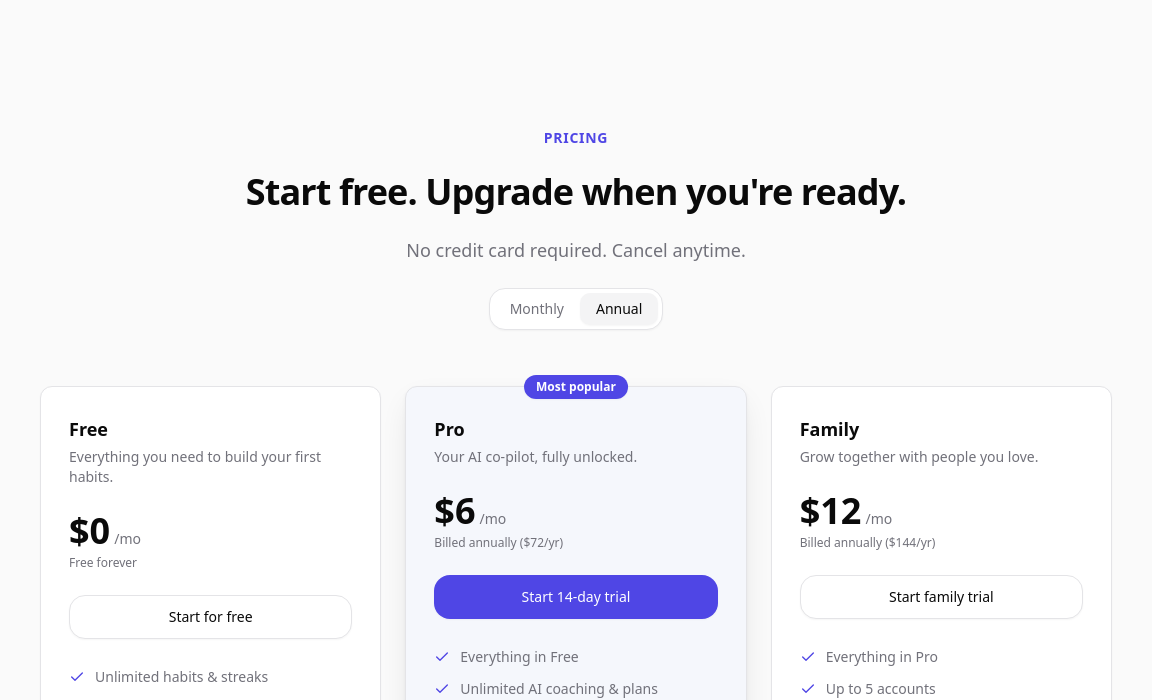
Scenario: PricingSection › shows the demo notice for a demo session
Click the button "Start 14-day trial" at (576, 597), box 434,575 -> 718,619
(page scrolled)
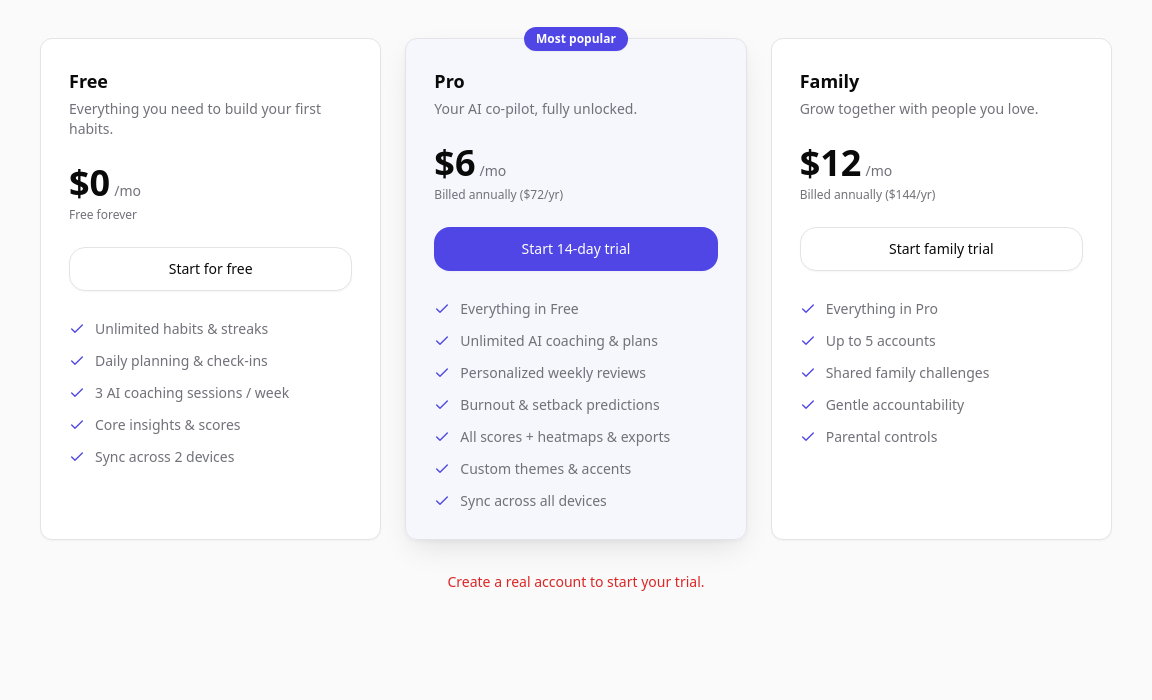
Expected: the text "Create a real account to start your trial." is shown, 448,572 -> 705,591
